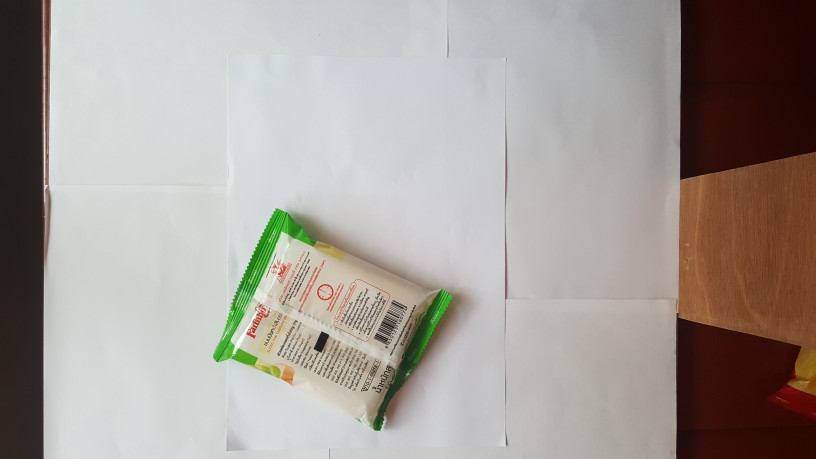farmhouse-bread-pandan: (205, 203, 457, 432)
